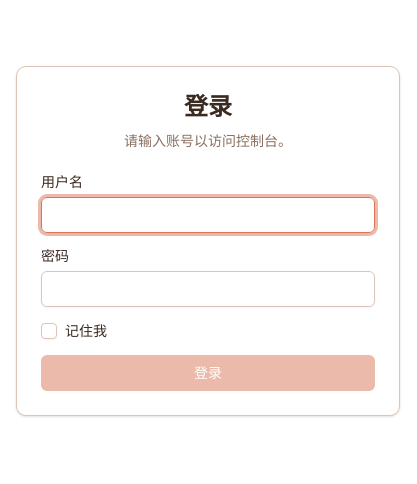
Test case: 登录页 › 被限流时显示主控的 reason 与解锁时间
Type "admin" into the field labelled "用户名" at (208, 215), box top-left (41, 197), bottom-right (375, 233)
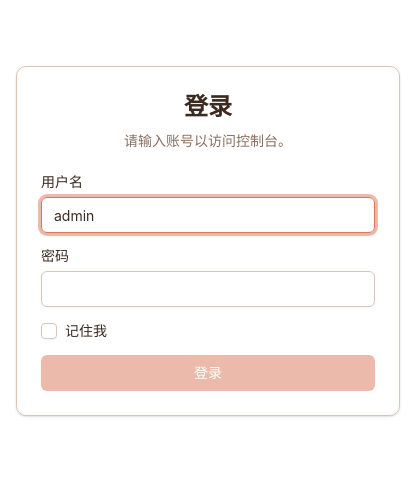
Type "secret12" into the password field labelled "密码" at (208, 289), box top-left (41, 271), bottom-right (375, 307)
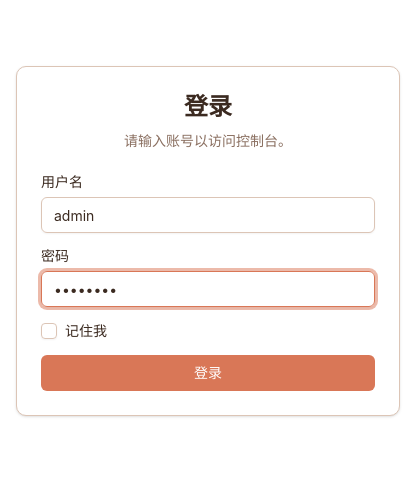
Click the button "登录" at (208, 373), box top-left (41, 355), bottom-right (375, 391)
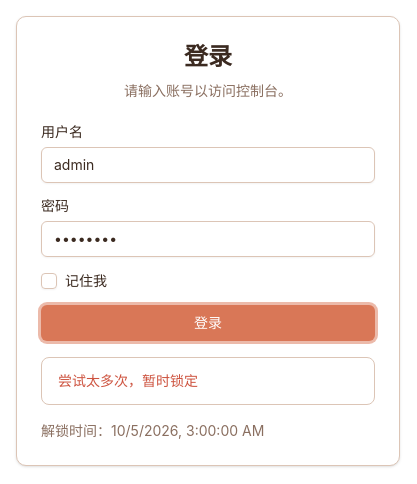
Check: the text "尝试太多次，暂时锁定" is shown, box top-left (58, 370), bottom-right (198, 392)
